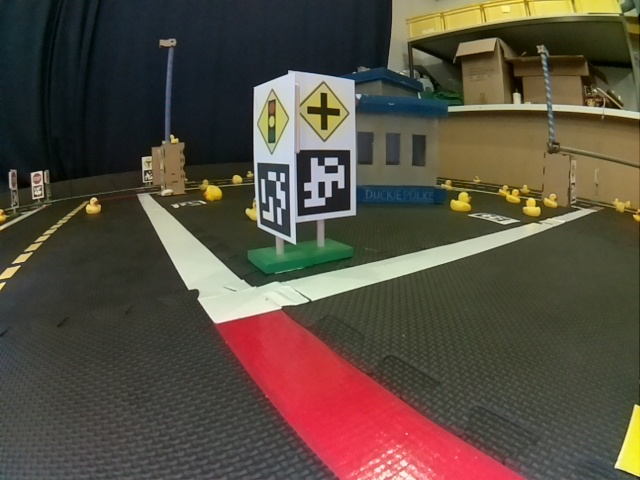Duckie: (450, 192, 471, 211), (524, 199, 541, 216), (204, 185, 221, 201), (86, 197, 101, 214), (245, 198, 257, 219), (543, 194, 557, 208), (507, 189, 520, 204)
Intersection sign: (299, 79, 349, 145)
QR code: (297, 150, 350, 214), (257, 164, 292, 234), (471, 213, 518, 223)
Signal sign: (255, 90, 289, 159)
